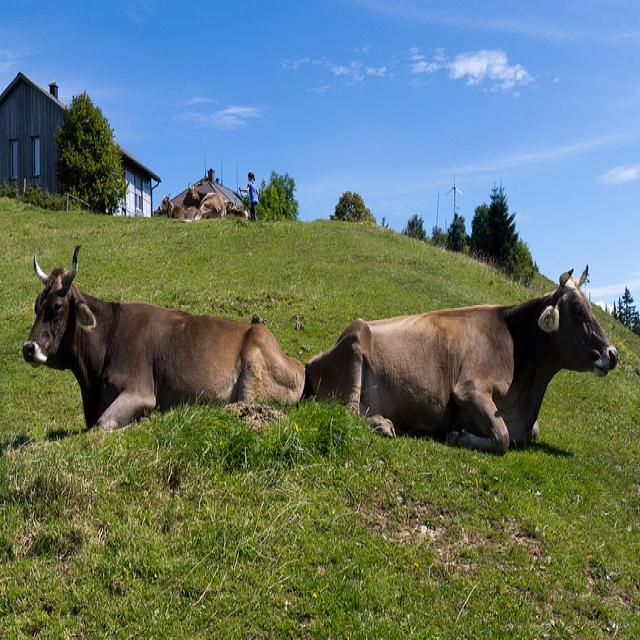cow: (304, 265, 619, 450), (18, 241, 303, 432), (180, 182, 226, 220), (156, 190, 196, 217), (226, 206, 249, 217)
